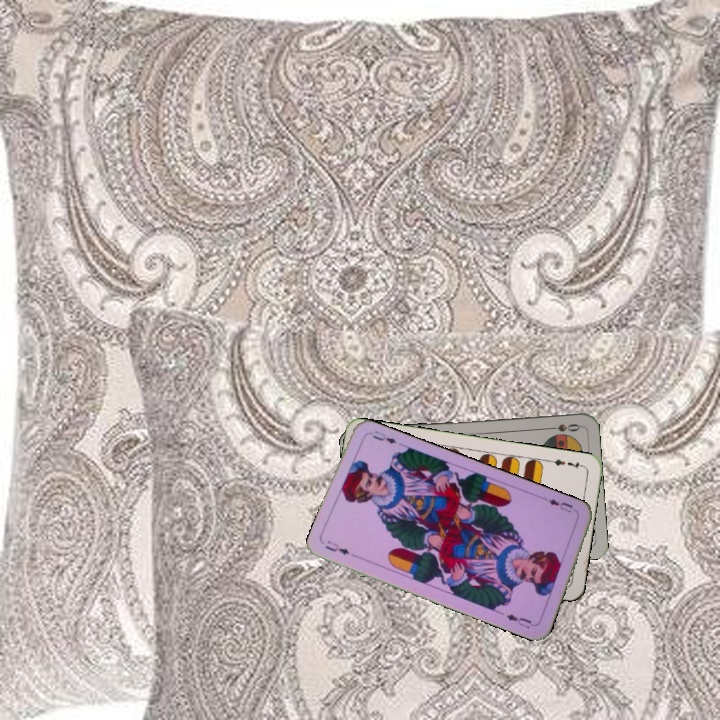E7: (546, 455, 586, 472)
EU: (540, 493, 575, 515), (321, 537, 352, 558)
SO: (542, 420, 582, 434)
